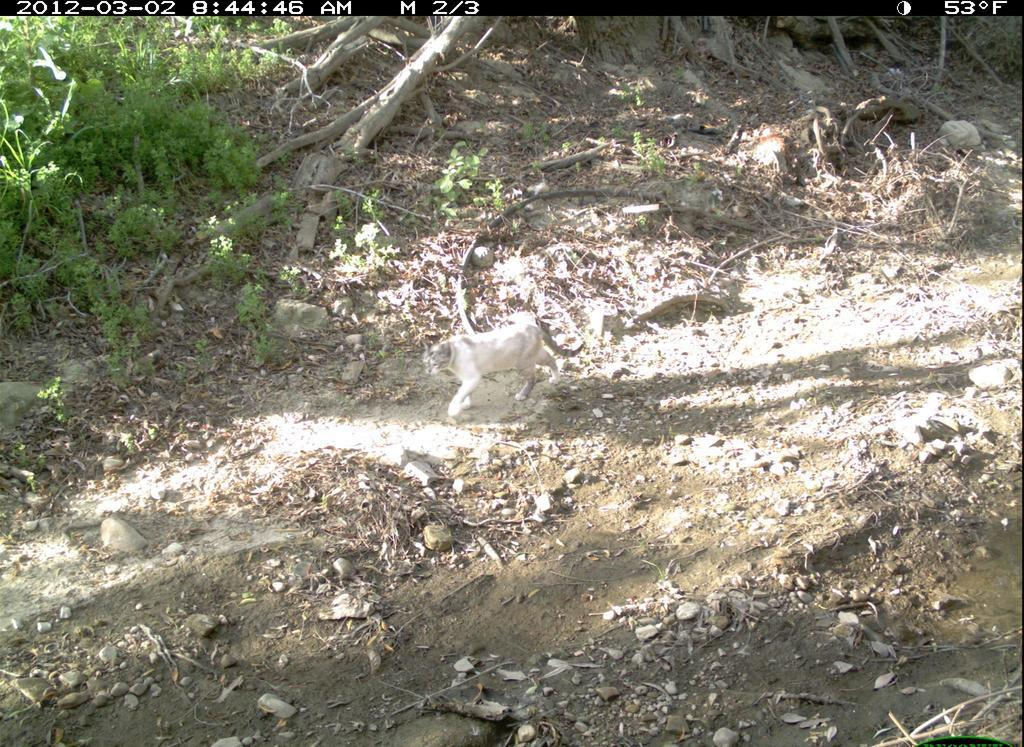cat: (419, 314, 583, 424)
